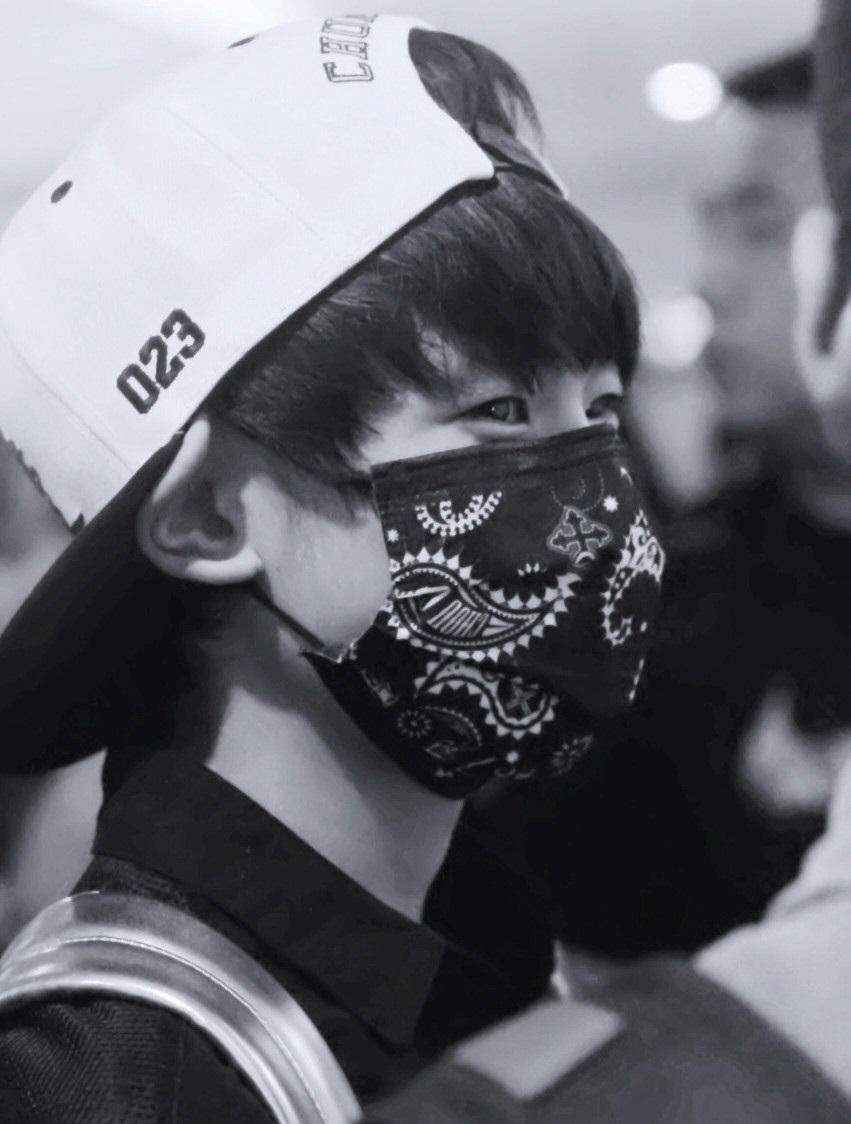OK: (252, 339, 659, 781)
